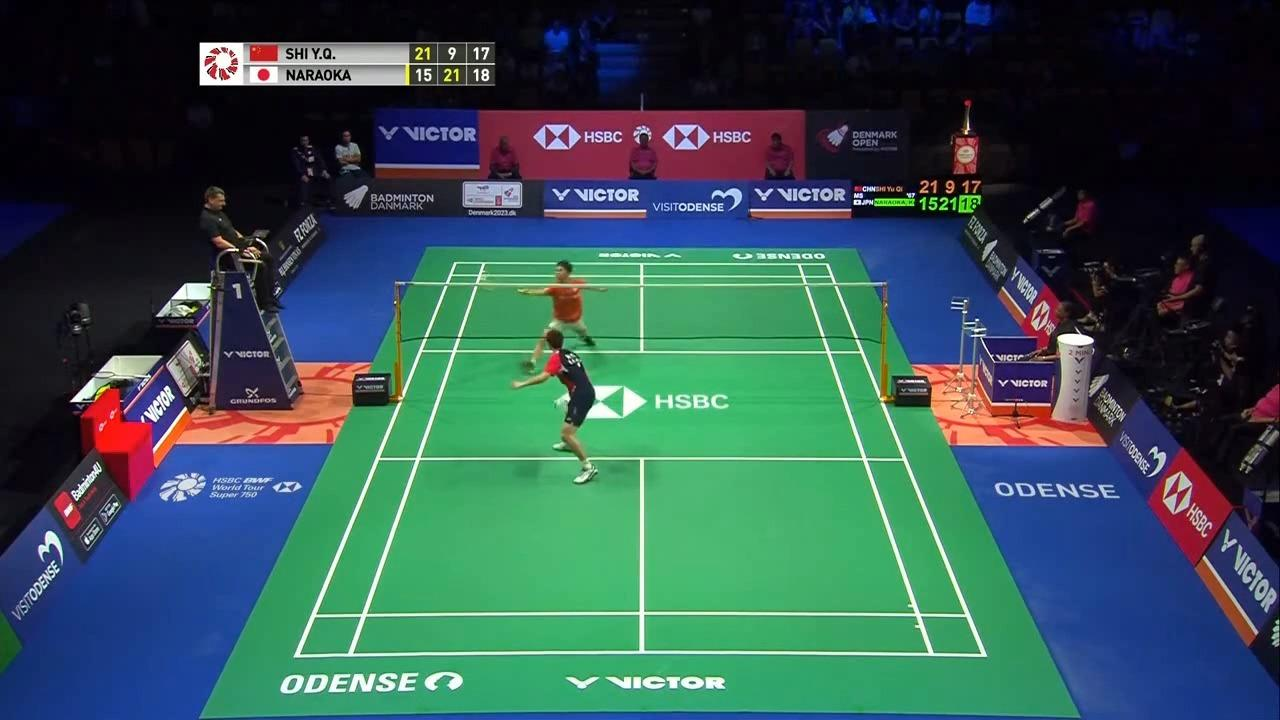shuttle: (480, 275, 489, 282)
